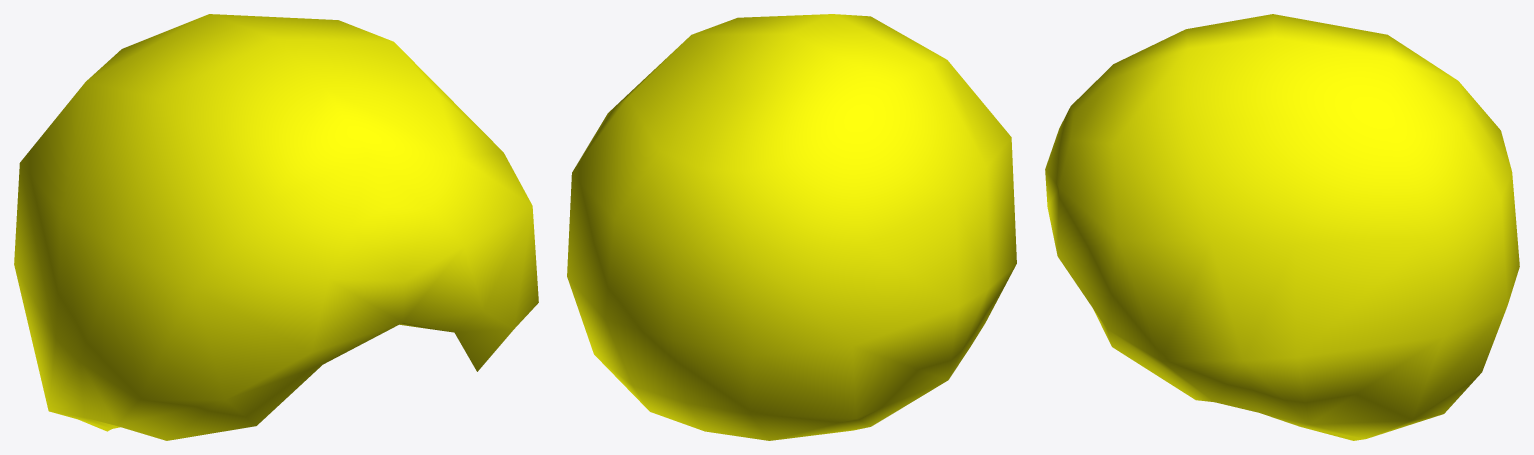
File: hair_afro.glb
3 renders of one model, left to right at view 1: azimuth 30°, elevation 25°; view 2: azimuth 150°, elevation 25°; view 3: azimuth 270°, elevation 25°, orthographic. The views are drawn at different scales.
Parts seen in each view (by area): view 1: afro; view 2: afro; view 3: afro.
Boxes of the visible parts, bbox=[...] form: afro: bbox=[14, 14, 538, 440]; afro: bbox=[567, 14, 1016, 440]; afro: bbox=[1045, 14, 1519, 440].
Bounding box in the file's own units: 0.6857 × 0.6211 × 0.7446.
Materials: 1 (1 with a texture image).
